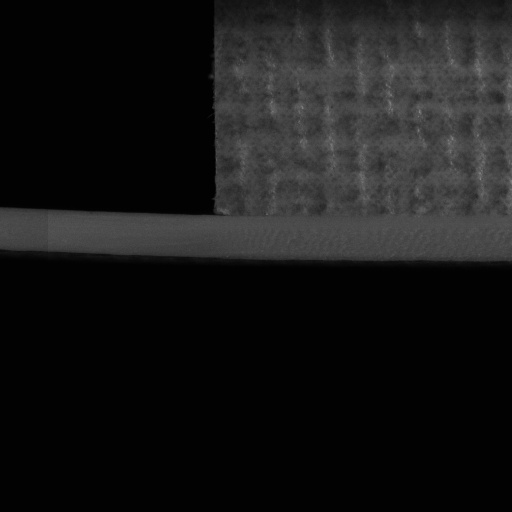changdai: (0, 207, 219, 261)
